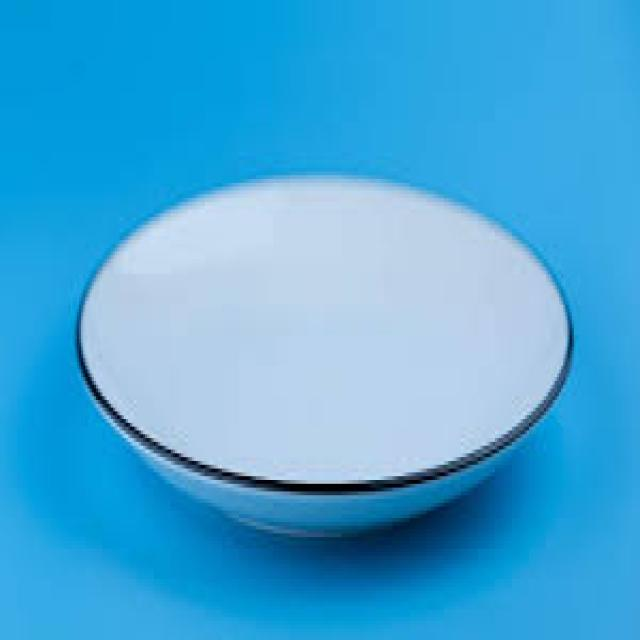Plate: (67, 147, 582, 571)
